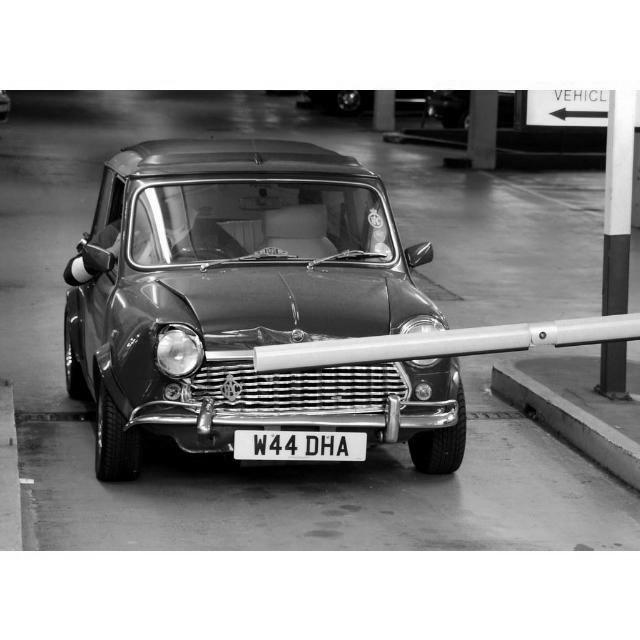bonnet-dent: (141, 262, 394, 359)
front-bumper-dent: (116, 348, 413, 456)
